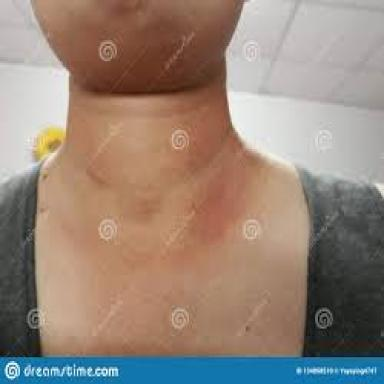burn: (169, 99, 247, 208)
